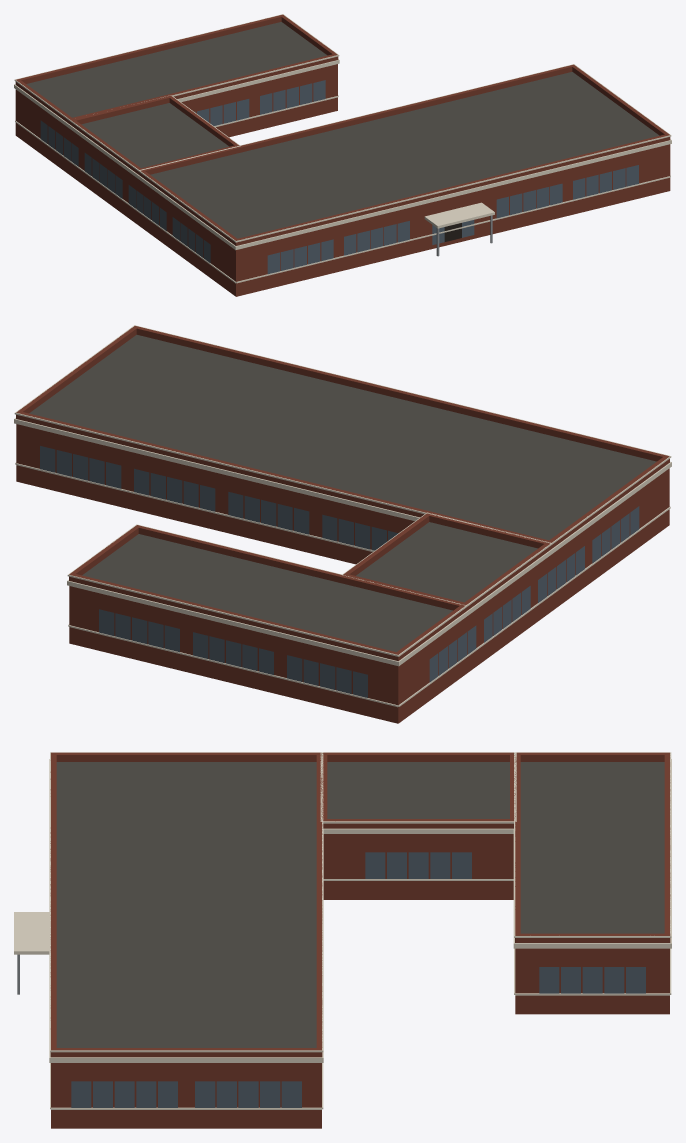
The model's file is st-bartholomew-high-school.glb.
The picture shows the model from 3 angles, top to bottom: view 1: azimuth 30°, elevation 25°; view 2: azimuth 150°, elevation 25°; view 3: azimuth 270°, elevation 25°; orthographic projection. The views are drawn at different scales.
Visible parts, largest first — view 1: st_bartholomew_high_school; view 2: st_bartholomew_high_school; view 3: st_bartholomew_high_school.
Boxes of the visible parts, box(x1,y1,x2,y2) form: st_bartholomew_high_school: box(14, 14, 671, 296); st_bartholomew_high_school: box(14, 325, 671, 723); st_bartholomew_high_school: box(14, 752, 671, 1128).
Size of the model in its own units: 45.74 by 5.6 by 42.52.
